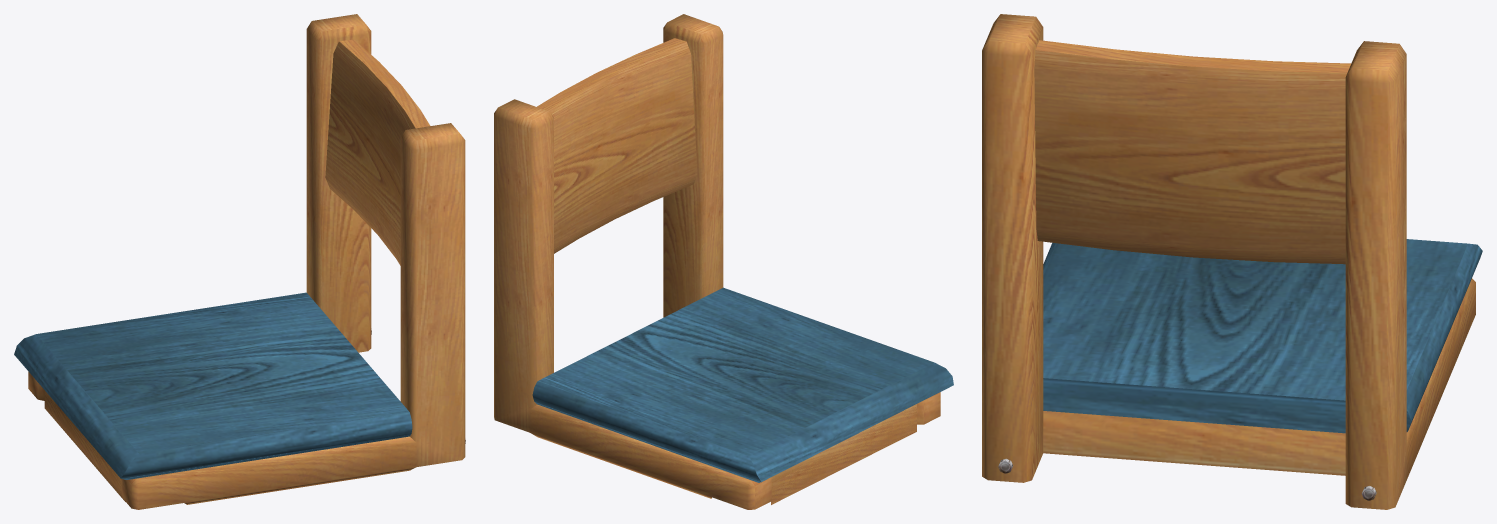
The picture shows the model from 3 angles, left to right: view 1: azimuth 30°, elevation 25°; view 2: azimuth 150°, elevation 25°; view 3: azimuth 270°, elevation 25°; orthographic projection. The views are drawn at different scales.
Parts seen in each view (by area): view 1: Joint_0_Object_0, Joint_0_Object_2; view 2: Joint_0_Object_0, Joint_0_Object_2; view 3: Joint_0_Object_0, Joint_0_Object_2.
Part boxes in pixels (x1=…): Joint_0_Object_0: x1=28, y1=14, x2=465, y2=509; Joint_0_Object_2: x1=14, y1=292, x2=412, y2=479; Joint_0_Object_0: x1=494, y1=14, x2=940, y2=509; Joint_0_Object_2: x1=532, y1=287, x2=953, y2=482; Joint_0_Object_0: x1=982, y1=14, x2=1475, y2=509; Joint_0_Object_2: x1=1043, y1=239, x2=1482, y2=433.
Bounding box in the file's own units: 778 × 680 × 692.
3 materials, 3 textured.
